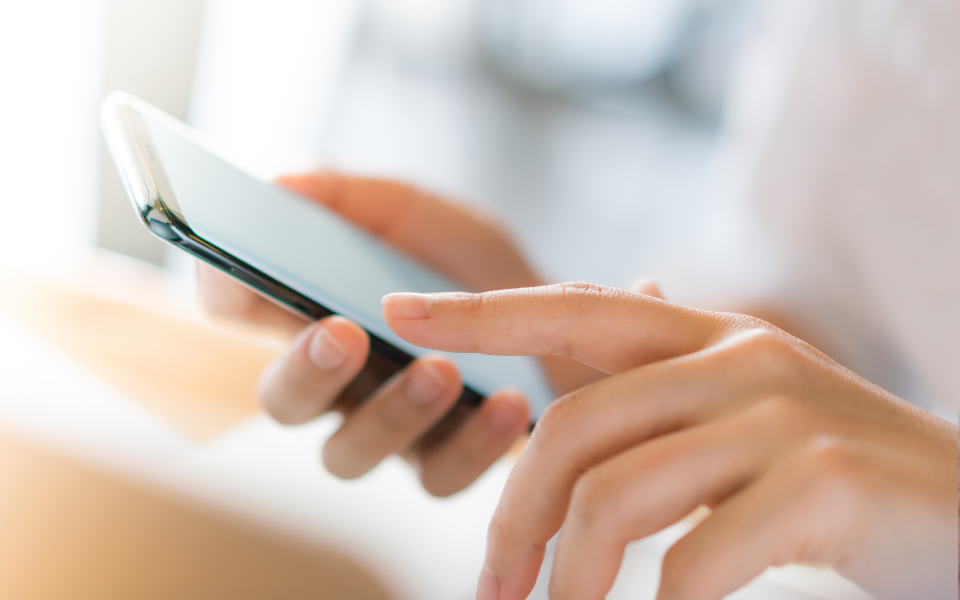Phone: (100, 87, 568, 436)
